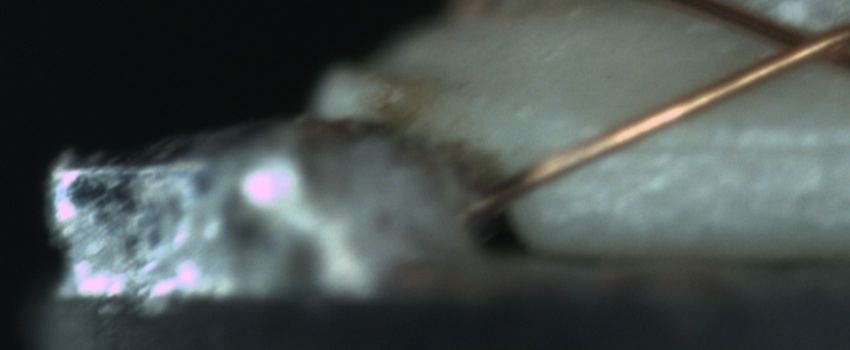CL: (750, 10, 845, 77)
DL: (608, 112, 850, 180)
